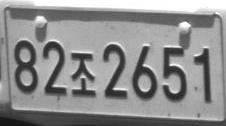1: (190, 47, 217, 103)
2: (102, 43, 128, 98), (42, 40, 67, 94)
5: (161, 47, 187, 100)
6: (131, 45, 157, 99)
8: (13, 39, 38, 93)
조: (70, 52, 96, 96)
